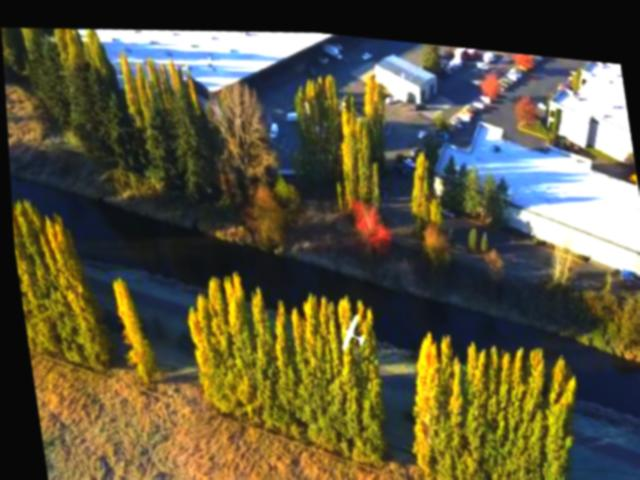uav: (319, 298, 374, 352)
